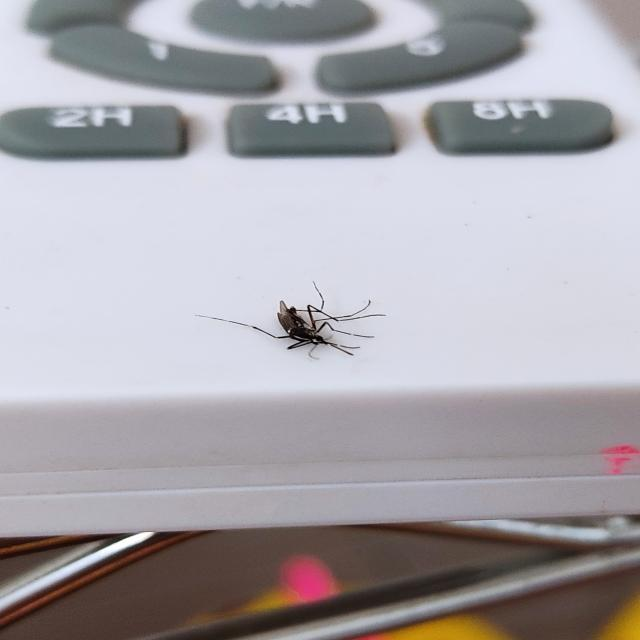albopictus: (202, 275, 387, 363)
